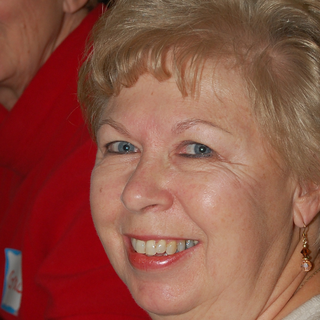eye: (168, 135, 223, 167), (97, 139, 145, 160)
